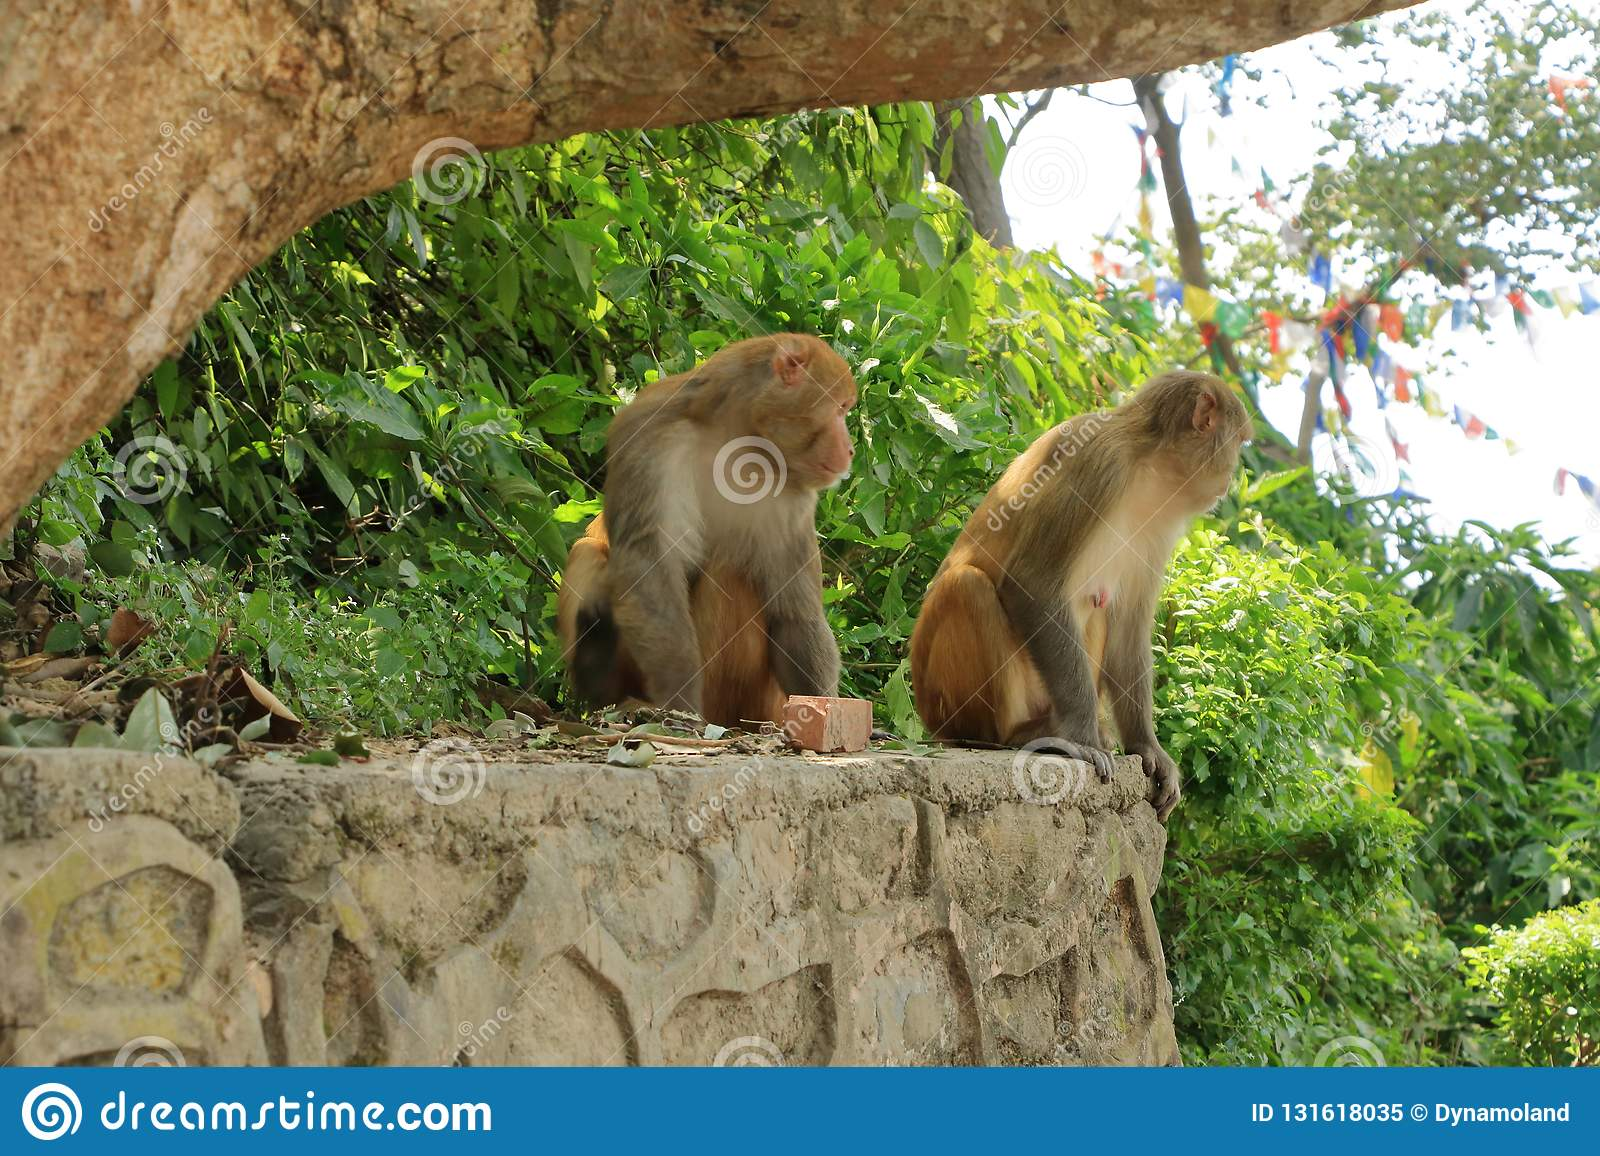monkey: (897, 346, 1280, 793), (525, 322, 891, 743)
